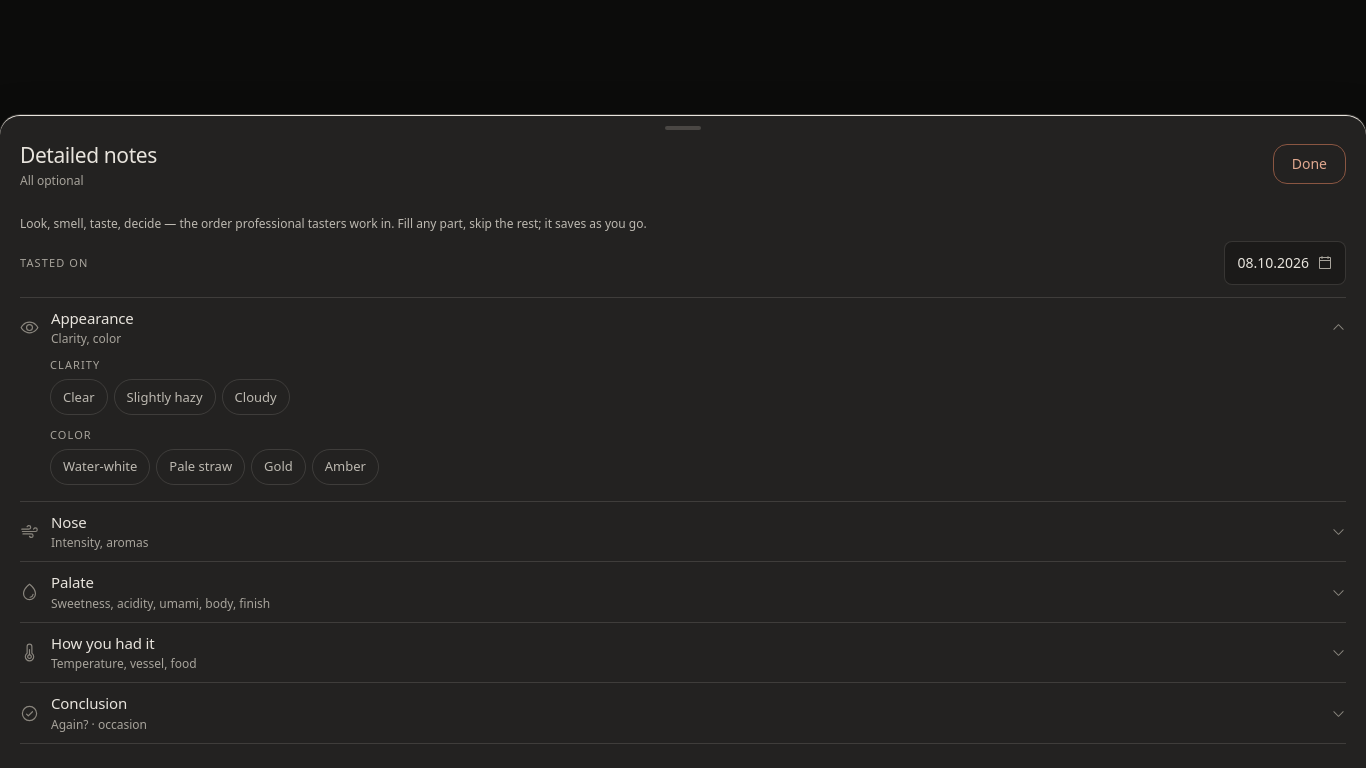
Test: §10 detailed notes › summarises a closed part in words and counts it as filled
Click the button with test id "detailed-notes-toggle-nose" at (69, 522), box [20,502,1346,561]
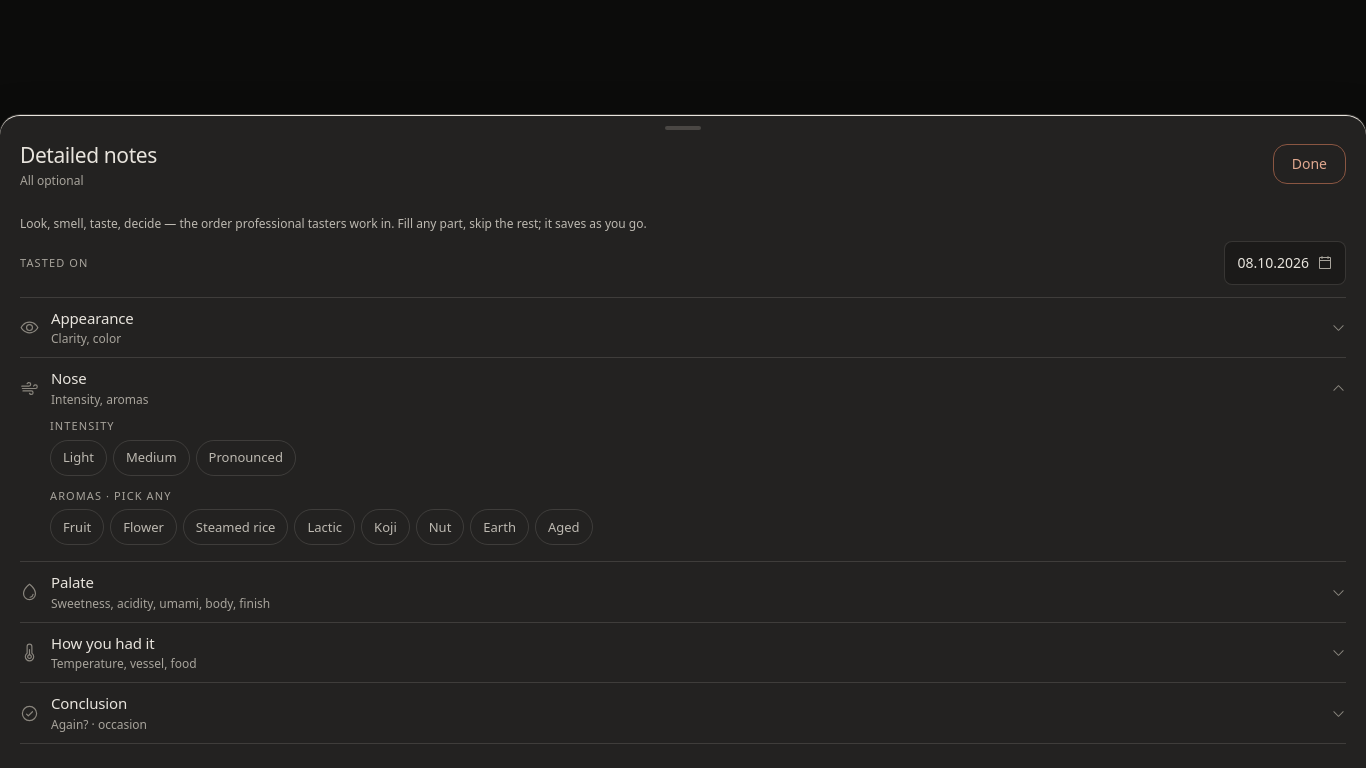
Click the button with test id "detailed-notes-aromas-koji" at (385, 527), box [361,509,410,545]
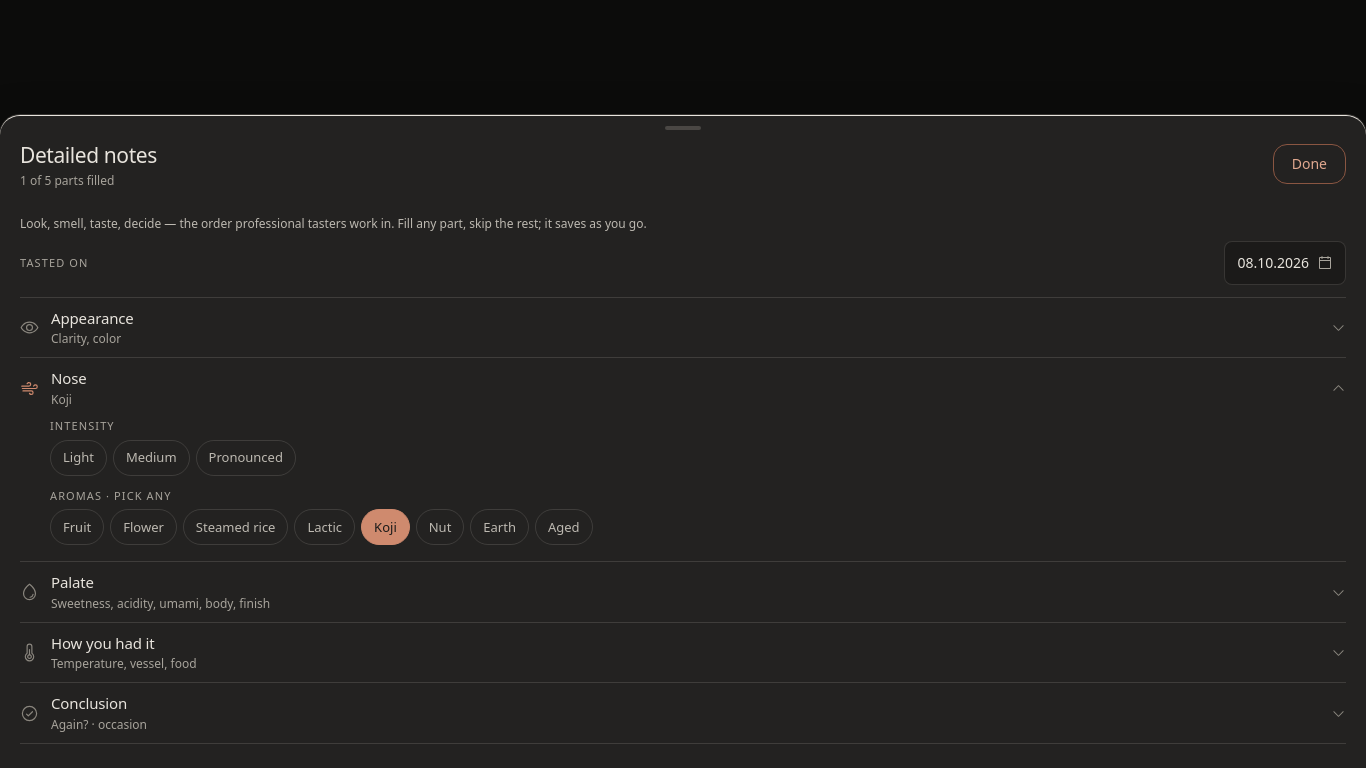
Click the button with test id "detailed-notes-aromas-fruit" at (77, 527), box [50,509,104,545]
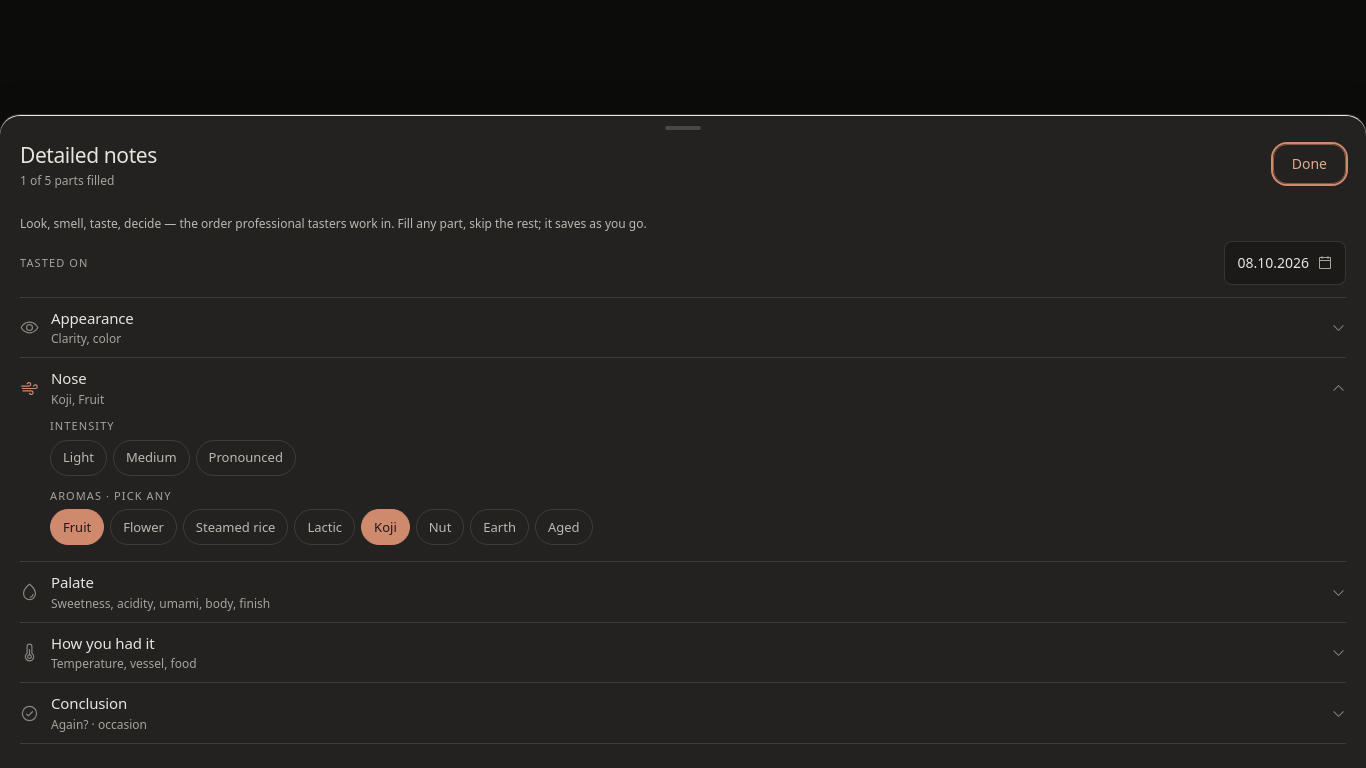
Expected: the text with test id "detailed-notes-summary-nose" reads "Koji, Fruit", [51,391,104,408]
